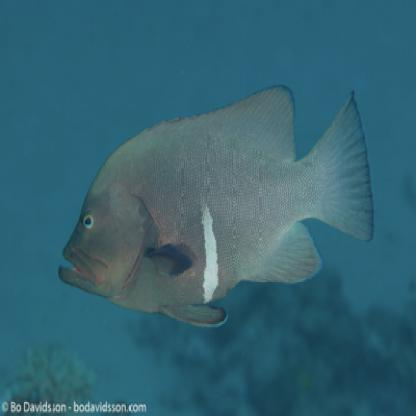grouper: (50, 83, 377, 333)
